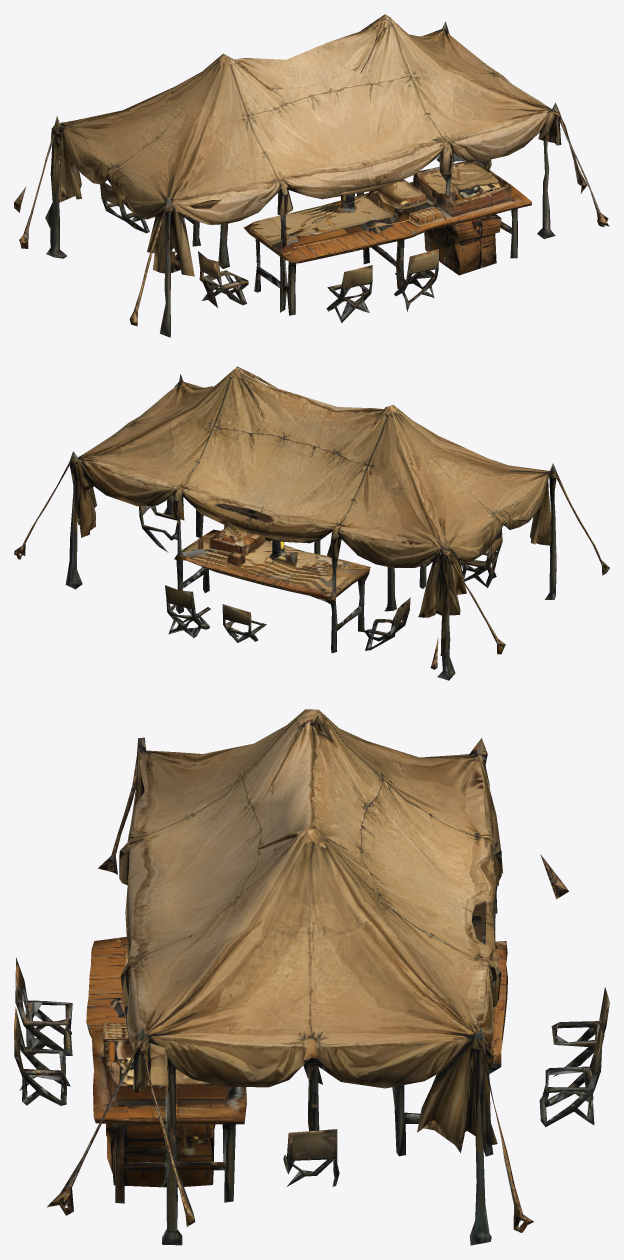
Rendered from EX_Camp_Tent.fbx.
3 renders of one model, top to bottom at view 1: azimuth 30°, elevation 25°; view 2: azimuth 150°, elevation 25°; view 3: azimuth 270°, elevation 25°, orthographic. The views are drawn at different scales.
Visible parts, largest first — view 1: texture_mapping; view 2: texture_mapping; view 3: texture_mapping.
Part boxes in pixels (box(x1,y1,x2,y2)): texture_mapping: box(14, 14, 609, 337); texture_mapping: box(14, 366, 609, 680); texture_mapping: box(14, 709, 609, 1245).
Size of the model in its own units: 0.9865 by 0.687 by 0.4192.
Materials: 1 (1 with a texture image).
